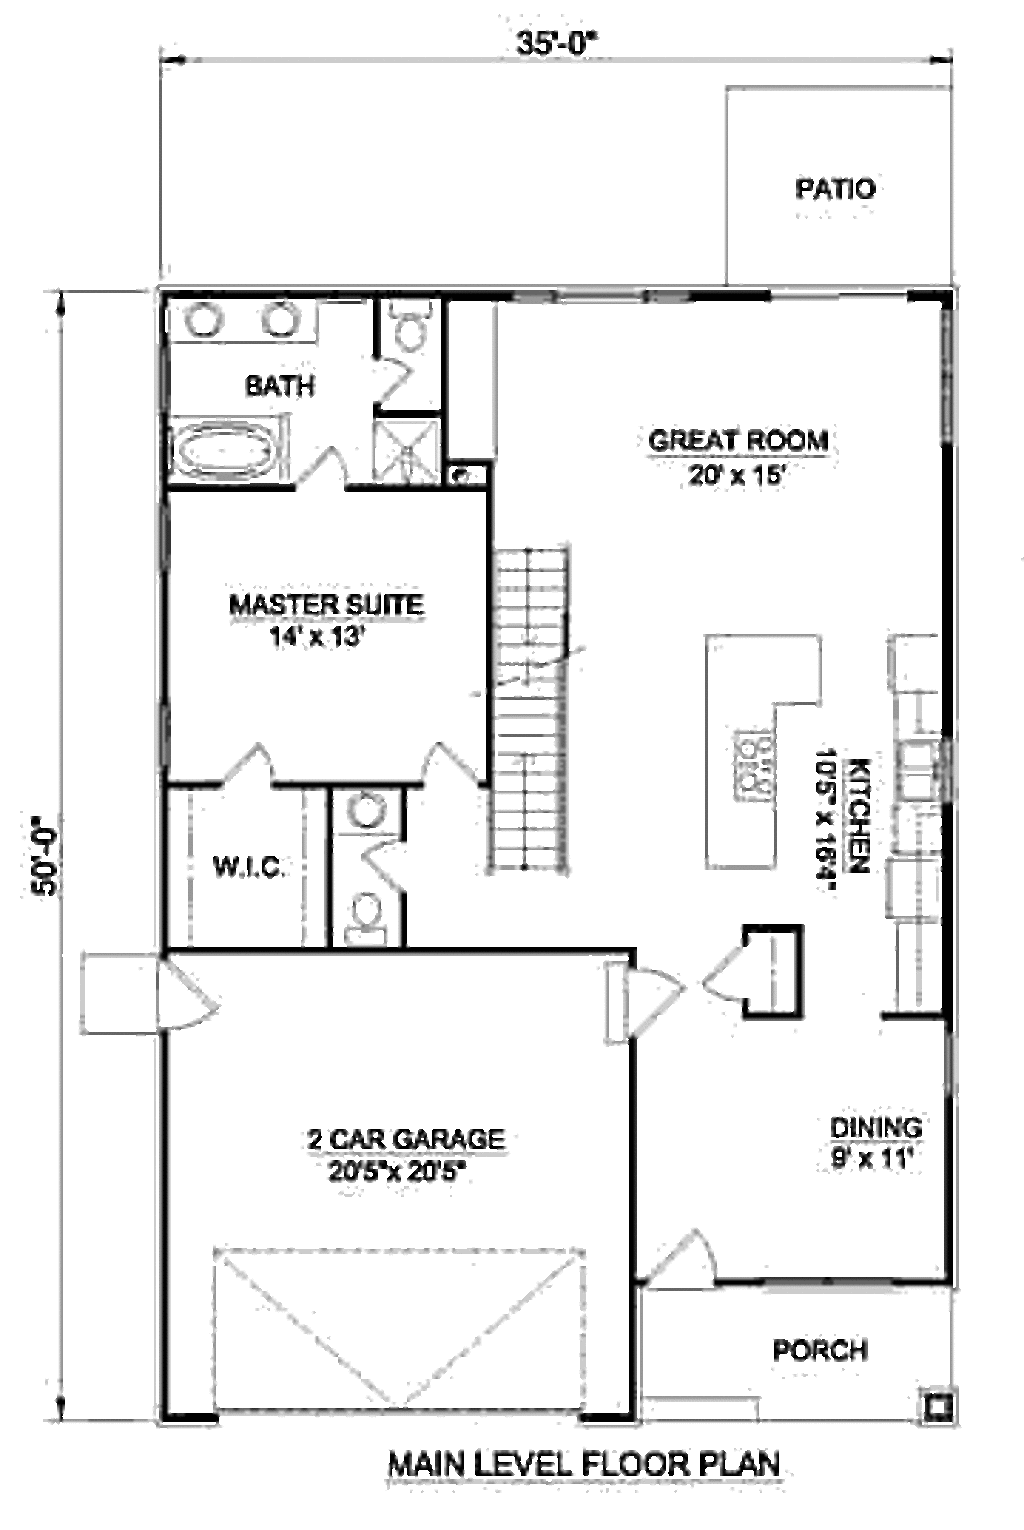door: (597, 950, 688, 1046), (155, 953, 235, 1046), (627, 1226, 734, 1295), (698, 924, 767, 1012), (405, 726, 479, 800), (207, 729, 293, 782), (367, 841, 424, 900), (288, 441, 350, 495)
large_sink: (362, 283, 457, 369), (331, 886, 411, 974)
small_sink: (157, 286, 329, 350)
stairs: (474, 524, 603, 879)
tub: (146, 404, 281, 488)
window: (760, 1272, 874, 1298)
